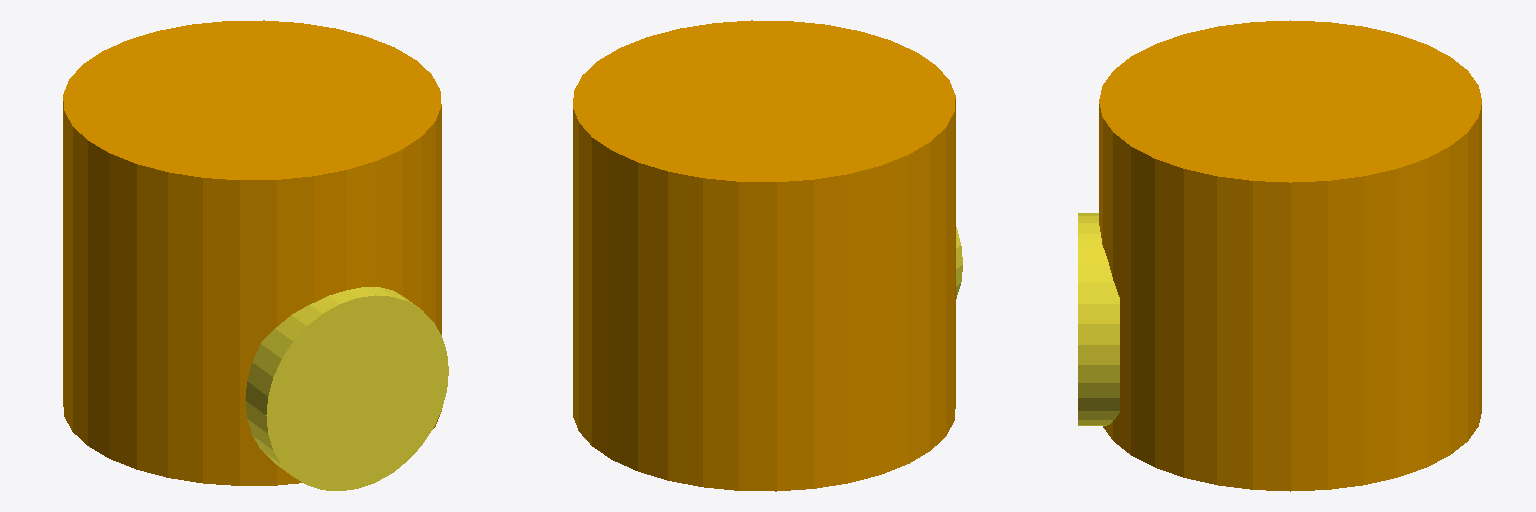
robot.urdf — /bmstu/ros2_ws/src/main/urdf/Robot.urdf:
<?xml version="1.0"?>
<robot name="/bmstu/ros2_ws/src/main/urdf/Robot.urdf" xmlns:xacro="http://ros.org/wiki/xacro">
  <link name="base_link">
    <visual>
      <origin xyz="0 0 0.0415" rpy="0 0 0"/>
      <geometry>
        <cylinder radius="0.045" length="0.08"/>
      </geometry>
    </visual>
    <collision>
      <origin xyz="0 0 0.0415" rpy="0 0 0"/>
      <geometry>
        <cylinder radius="0.045" length="0.08"/>
      </geometry>
    </collision>
  </link>
  <link name="ds1">
  </link>
  <joint name="base_link_ds1_joint" type="fixed">
    <parent link="base_link"/>
    <child link="ds1"/>
    <origin xyz="0.042 -0.02 0.063" rpy="0 0 -0.5236"/>
  </joint>
  <link name="ds0">
  </link>
  <joint name="base_link_ds0_joint" type="fixed">
    <parent link="base_link"/>
    <child link="ds0"/>
    <origin xyz="0.042 0.02 0.063" rpy="0 0 0.5236"/>
  </joint>
  <joint name="right wheel motor" type="continuous">
    <parent link="base_link"/>
    <child link="right wheel"/>
    <axis xyz="0 1 0"/>
    <limit effort="10" velocity="10"/>
    <origin xyz="0 0 0.025" rpy="0 0 0"/>
  </joint>
  <link name="right wheel">
    <visual>
      <origin xyz="0 -0.045 0" rpy="1.5708 0 0"/>
      <geometry>
        <cylinder radius="0.025" length="0.01"/>
      </geometry>
    </visual>
    <collision>
      <origin xyz="0 -0.045 0" rpy="1.5708 0 0"/>
      <geometry>
        <cylinder radius="0.025" length="0.01"/>
      </geometry>
    </collision>
  </link>
  <joint name="left wheel motor" type="continuous">
    <parent link="base_link"/>
    <child link="left wheel"/>
    <axis xyz="0 1 0"/>
    <limit effort="10" velocity="10"/>
    <origin xyz="0 -0.045 0.025" rpy="0 0 0"/>
  </joint>
  <link name="left wheel">
    <visual>
      <origin xyz="0 0.045 0" rpy="1.5708 0 0"/>
      <geometry>
        <cylinder radius="0.025" length="0.01"/>
      </geometry>
    </visual>
    <collision>
      <origin xyz="0 0.045 0" rpy="1.5708 0 0"/>
      <geometry>
        <cylinder radius="0.025" length="0.01"/>
      </geometry>
    </collision>
  </link>
</robot>

--- Render facts (derived) ---
Views: 3 orthographic renders of the robot side by side, from view 1: azimuth 30°, elevation 25°; view 2: azimuth 150°, elevation 25°; view 3: azimuth 270°, elevation 25°.
Robot: /bmstu/ros2_ws/src/main/urdf/Robot.urdf — 5 links, 4 joints (2 continuous, 2 fixed); root link base_link; default pose: every joint at zero.
Visible links, largest first — view 1: base_link, right wheel; view 2: base_link; view 3: base_link, right wheel.
Link boxes in pixels (x1,y1,x2,y2): base_link: [63, 20, 441, 485]; right wheel: [245, 287, 448, 490]; base_link: [573, 20, 955, 491]; base_link: [1099, 20, 1481, 491]; right wheel: [1078, 213, 1119, 425].
Bounding box of the posed robot: 0.09 × 0.095 × 0.0815 m (x, y, z).
Geometry: primitives only (box / cylinder / sphere), no mesh files.